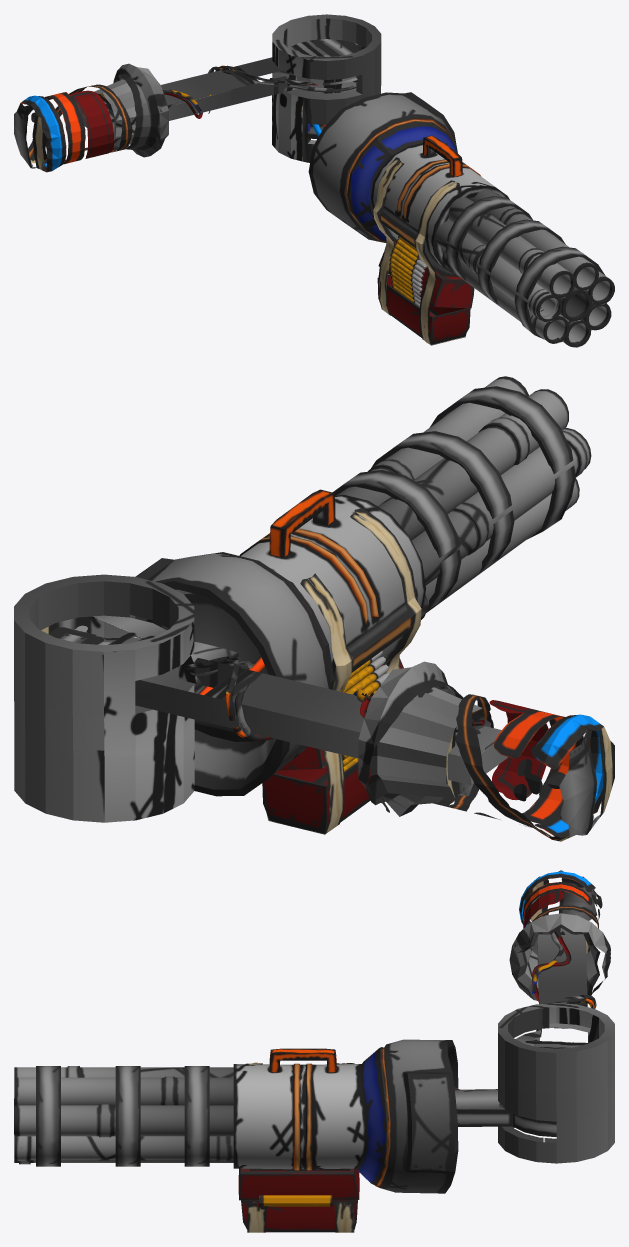
The model's file is LeftMiniGun_WithArm.FBX.
3 views of the same model, one above another, from view 1: azimuth 30°, elevation 25°; view 2: azimuth 150°, elevation 25°; view 3: azimuth 270°, elevation 25° (orthographic). The views are drawn at different scales.
Parts seen in each view (by area): view 1: MachineGun001, Arm001, Barrel001; view 2: Arm001, MachineGun001, Barrel001; view 3: MachineGun001, Arm001, Barrel001.
Boxes of the visible parts, x1=… form: MachineGun001: x1=301, y1=92, x2=605, y2=345; Arm001: x1=14, y1=14, x2=381, y2=172; Barrel001: x1=435, y1=189, x2=614, y2=347; Arm001: x1=14, y1=574, x2=614, y2=841; MachineGun001: x1=135, y1=386, x2=575, y2=834; Barrel001: x1=337, y1=376, x2=591, y2=619; MachineGun001: x1=14, y1=1039, x2=556, y2=1232; Arm001: x1=498, y1=870, x2=614, y2=1163; Barrel001: x1=14, y1=1066, x2=233, y2=1164.
Size of the model in its own units: 32.35 by 43.08 by 17.7.
3 materials, 3 textured.
